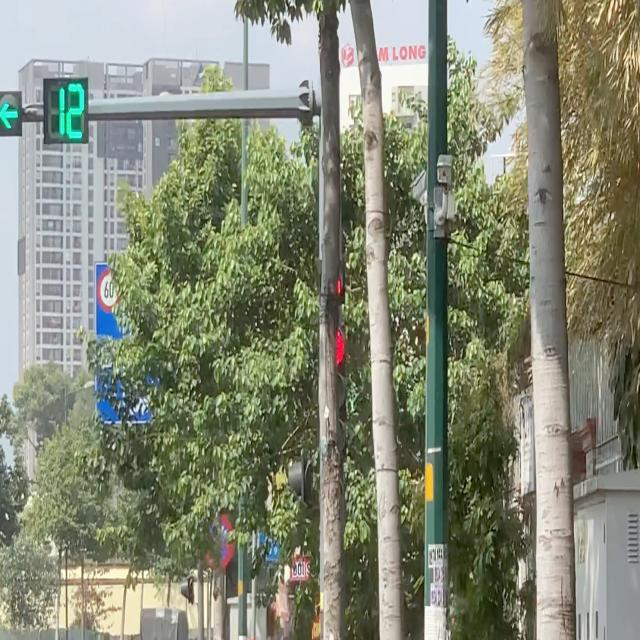Toc do toi da: (97, 267, 121, 312)
